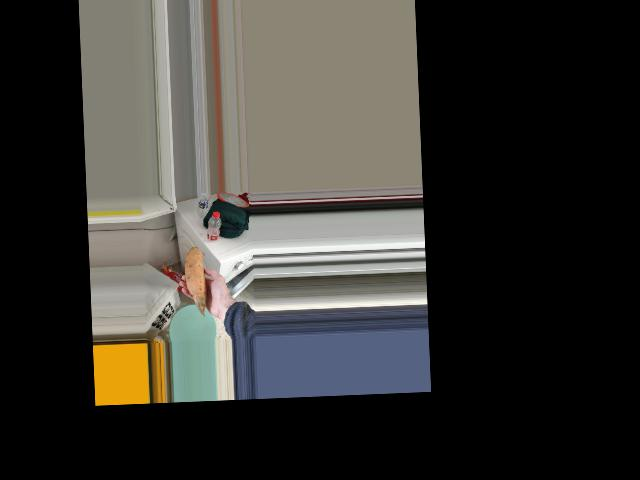sweet_potato: (188, 252, 208, 313)
